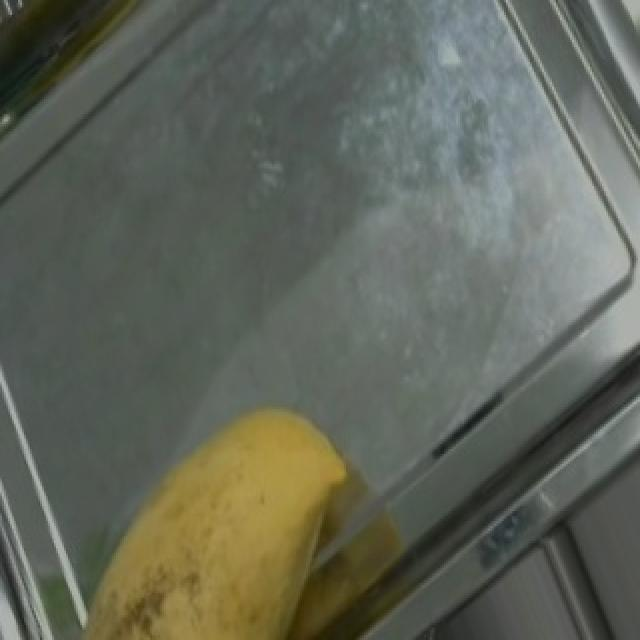fruit: (46, 352, 430, 640)
